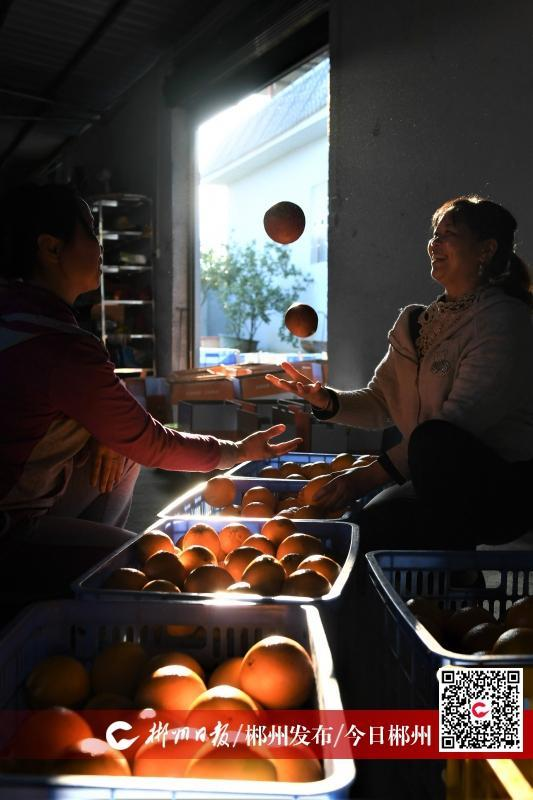apple: (30, 663, 341, 773), (238, 637, 314, 712)
